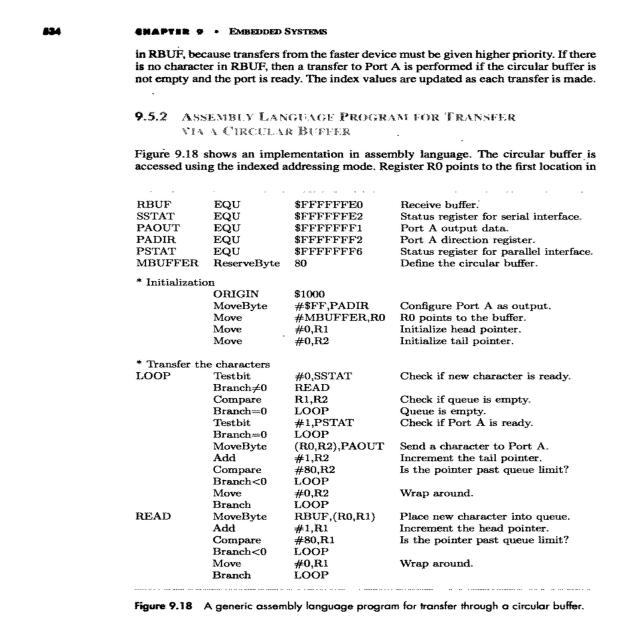diagram: (72, 135, 612, 625)
